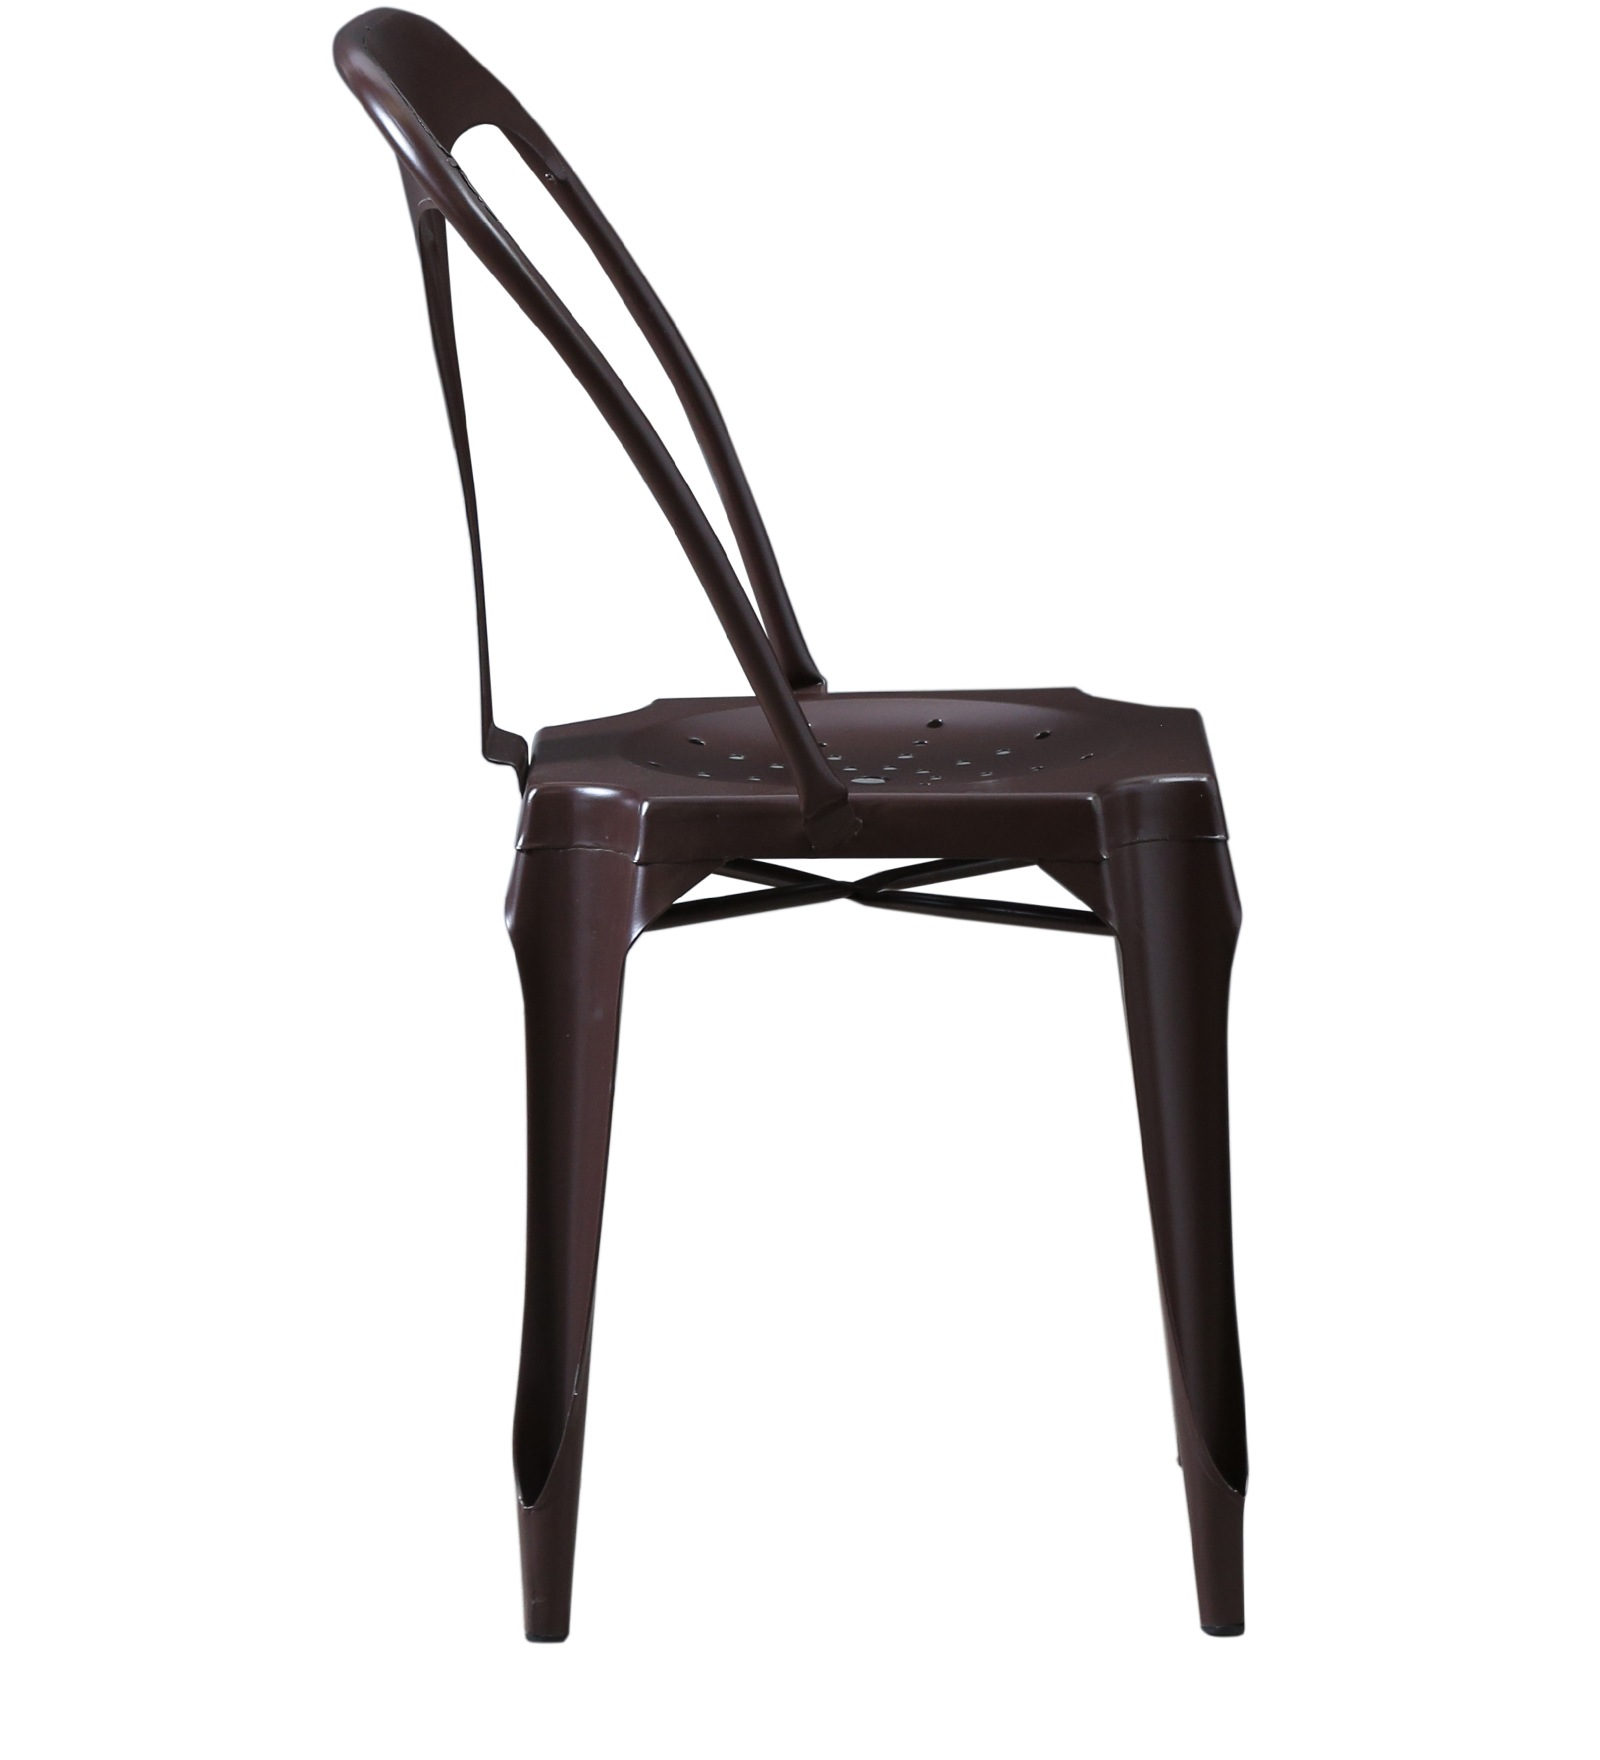Amos Metal Chair in Brown Color by Bohemiana: (276, 8, 1316, 1670)
